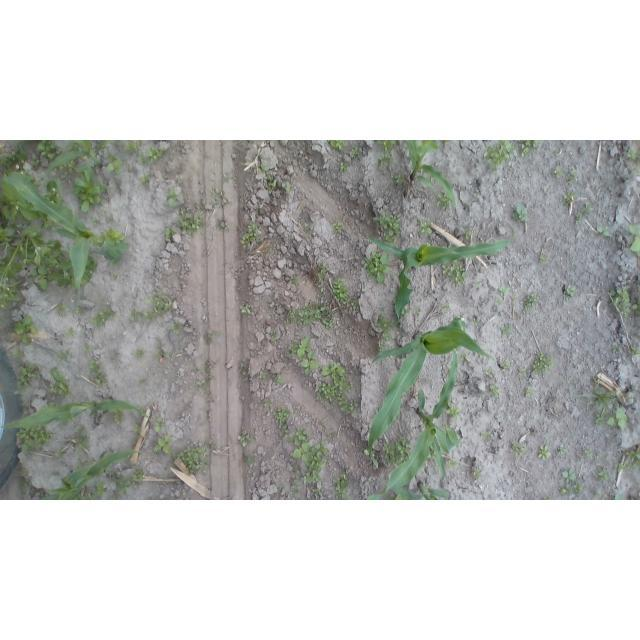Maize: (369, 318, 495, 471), (5, 172, 130, 301), (365, 224, 515, 325), (365, 350, 461, 500), (41, 449, 141, 500), (2, 400, 150, 428), (406, 140, 457, 209), (46, 141, 105, 174), (393, 480, 450, 500)
Weeds: (0, 228, 70, 309), (314, 362, 356, 414), (576, 372, 625, 412), (75, 168, 109, 212), (283, 300, 333, 329), (303, 438, 327, 486), (290, 338, 318, 377), (374, 210, 400, 245), (484, 140, 514, 170), (175, 446, 206, 474), (363, 252, 389, 285), (1, 143, 30, 172), (17, 429, 52, 453), (289, 427, 311, 465), (382, 434, 410, 463), (13, 315, 39, 346), (48, 367, 75, 396), (333, 279, 358, 309), (108, 470, 134, 498), (376, 316, 393, 353), (16, 366, 41, 391), (179, 210, 203, 235), (261, 163, 280, 194), (124, 140, 147, 165), (610, 288, 630, 316), (533, 352, 555, 377), (441, 265, 467, 285), (626, 222, 640, 257), (37, 140, 64, 158), (331, 473, 349, 500), (626, 141, 640, 175), (608, 409, 629, 431), (91, 308, 116, 326), (242, 221, 258, 248), (153, 434, 172, 456), (274, 408, 292, 431), (575, 202, 593, 224), (153, 294, 174, 312), (512, 204, 531, 223), (148, 145, 166, 165), (101, 230, 125, 245), (519, 141, 540, 158), (18, 469, 30, 496), (236, 430, 253, 449), (436, 190, 451, 210), (107, 155, 122, 175), (510, 442, 527, 457), (376, 140, 397, 152), (168, 188, 181, 207), (559, 485, 581, 496), (525, 293, 540, 309), (419, 219, 434, 235), (317, 263, 329, 281), (74, 437, 88, 452), (0, 227, 14, 242), (56, 349, 72, 362), (538, 444, 551, 460), (627, 448, 640, 463), (154, 417, 167, 432), (12, 348, 28, 360), (595, 224, 609, 237), (446, 404, 460, 417), (565, 174, 578, 187), (164, 229, 177, 242), (112, 412, 125, 425), (498, 284, 512, 296), (210, 330, 224, 342), (633, 292, 640, 316), (87, 360, 101, 372), (562, 469, 574, 483), (489, 383, 500, 398), (562, 286, 574, 299), (563, 192, 575, 205), (93, 372, 106, 384), (327, 140, 344, 149), (75, 492, 94, 500), (377, 157, 392, 167), (597, 468, 609, 480), (95, 481, 106, 494), (498, 324, 512, 334), (193, 365, 208, 374), (613, 461, 623, 474), (131, 467, 144, 477), (172, 322, 183, 333), (447, 459, 459, 469), (555, 166, 564, 179), (333, 220, 341, 234), (594, 413, 604, 424), (339, 161, 349, 172), (157, 349, 168, 359), (241, 303, 250, 315), (268, 330, 277, 342), (68, 161, 77, 173), (142, 176, 152, 186), (109, 271, 119, 281), (502, 361, 511, 372), (303, 220, 312, 231), (58, 305, 67, 316), (220, 196, 229, 207), (275, 374, 284, 385), (485, 368, 493, 380), (131, 310, 139, 322), (80, 343, 92, 351), (440, 303, 450, 312), (394, 175, 404, 184), (291, 275, 300, 285), (558, 445, 567, 455), (145, 311, 154, 321), (518, 367, 526, 378), (249, 454, 256, 466), (464, 232, 473, 241), (472, 470, 481, 479), (524, 387, 532, 397), (223, 172, 233, 180), (76, 307, 87, 314), (135, 351, 146, 358), (352, 147, 358, 159), (262, 398, 270, 407), (413, 307, 421, 316), (197, 380, 206, 388), (33, 160, 42, 168), (481, 430, 489, 439), (66, 328, 75, 336), (473, 314, 480, 324), (219, 219, 226, 229), (286, 182, 293, 192), (210, 440, 216, 451), (614, 495, 627, 500), (632, 347, 640, 355), (584, 450, 592, 458), (540, 256, 548, 264), (594, 489, 603, 496), (31, 490, 38, 499), (626, 464, 635, 471), (55, 449, 62, 457), (259, 373, 267, 380), (212, 189, 219, 197), (461, 353, 468, 360), (511, 295, 518, 302), (140, 379, 147, 385), (145, 297, 151, 304), (473, 281, 481, 286), (136, 424, 141, 432), (613, 345, 618, 352), (496, 298, 501, 303), (553, 148, 558, 153), (597, 453, 601, 457)
